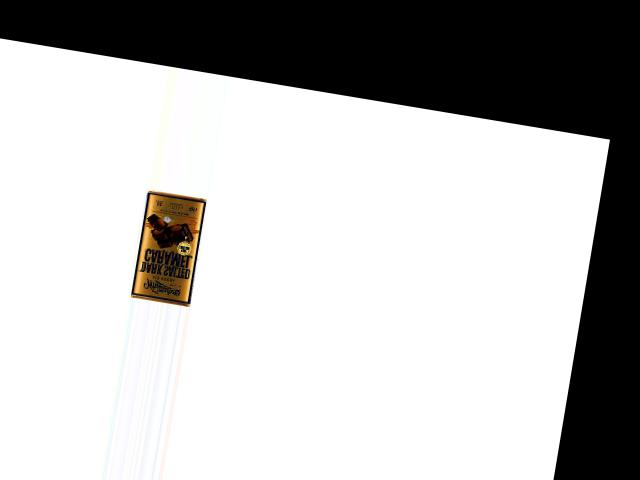chocolate: (128, 187, 212, 306)
